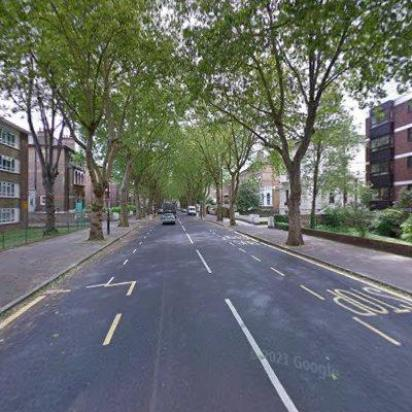moving-car: (160, 212, 178, 226)
stationary-light-truck-onstreet: (187, 206, 197, 216)
